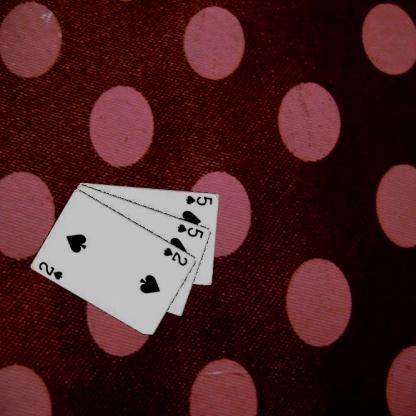2S: (161, 245, 189, 267), (36, 259, 64, 281)
5S: (175, 221, 205, 239), (183, 192, 214, 207)
